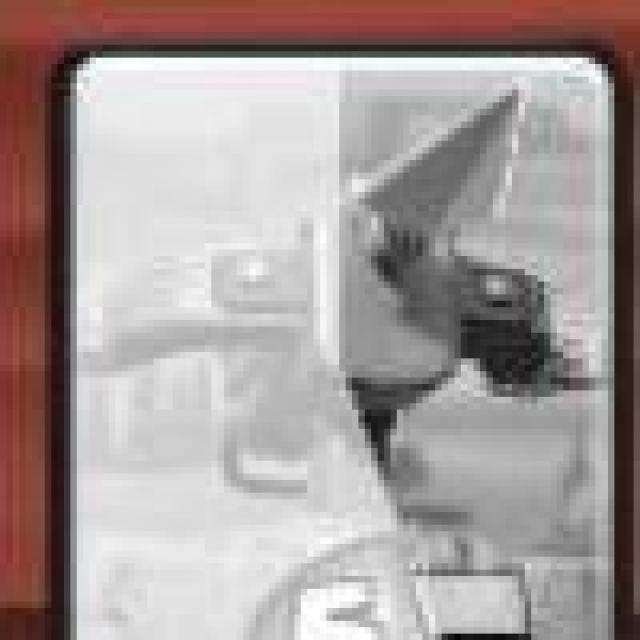X_Bow: (57, 49, 625, 640)
